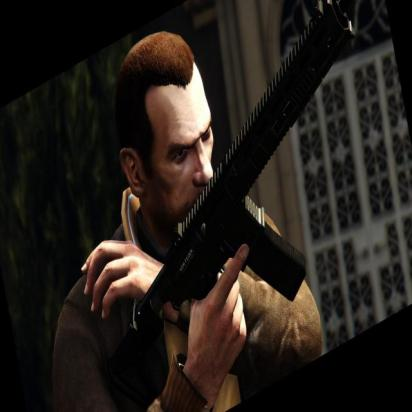Gun: (130, 0, 357, 343)
